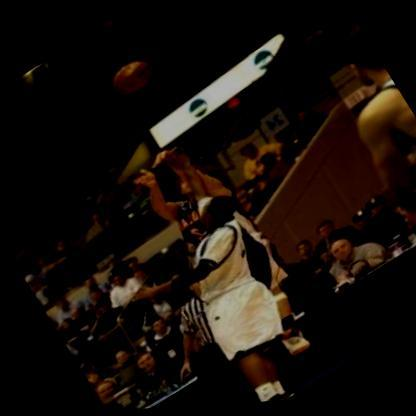basketball: (100, 49, 163, 108)
